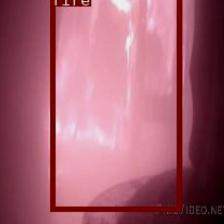fire: (50, 0, 180, 210)
